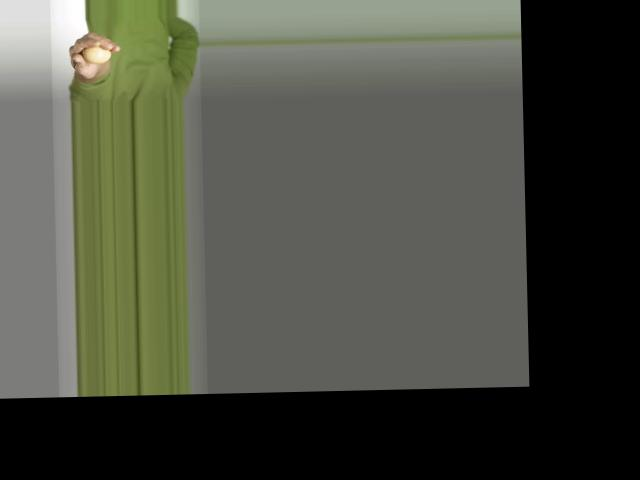egg: (82, 45, 112, 63)
